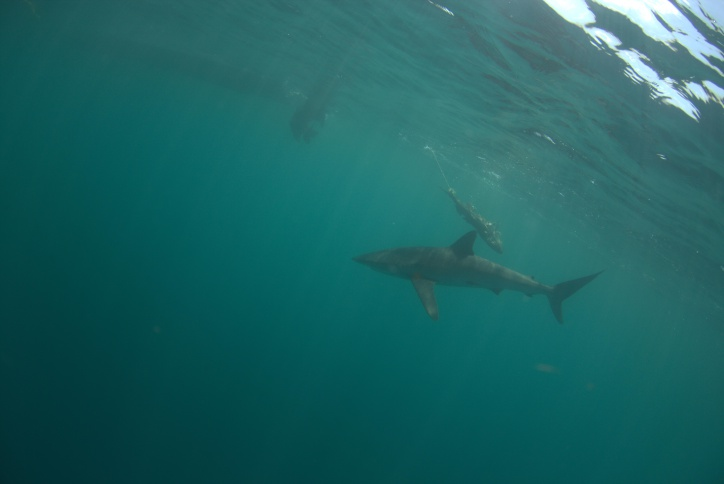Sedoso: (336, 225, 617, 332)
